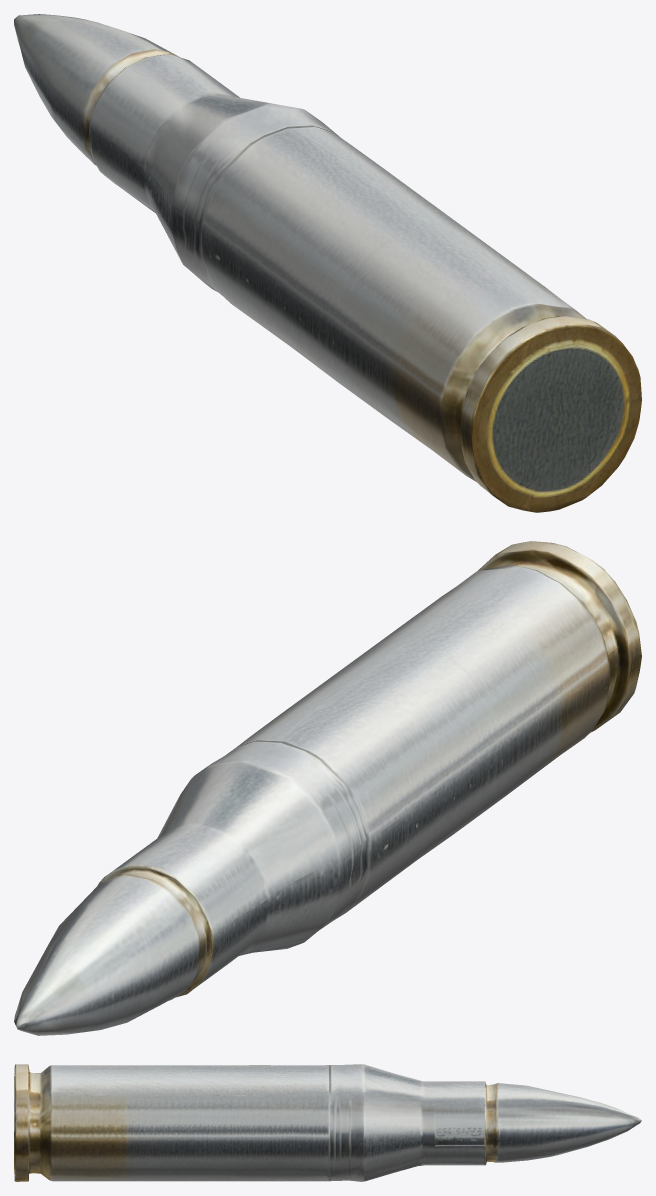
The picture shows the model from 3 angles, top to bottom: view 1: azimuth 30°, elevation 25°; view 2: azimuth 150°, elevation 25°; view 3: azimuth 270°, elevation 25°; orthographic projection. The views are drawn at different scales.
Bounding box in the file's own units: 0.1824 × 0.1886 × 1.
1 material, 1 textured.
